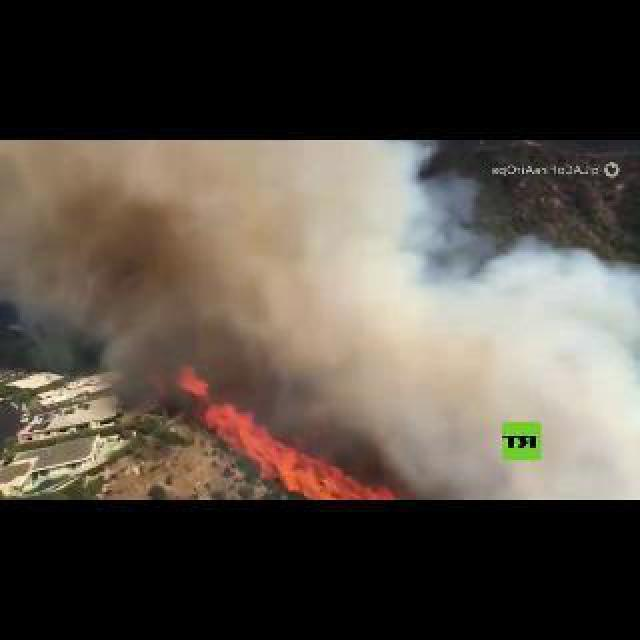Fire: (178, 374, 390, 500)
Smoke: (42, 175, 271, 422)
